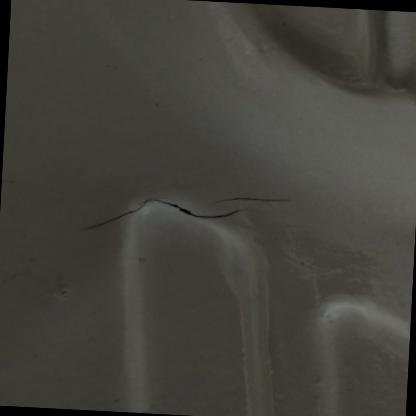Crack: (65, 160, 317, 261)
